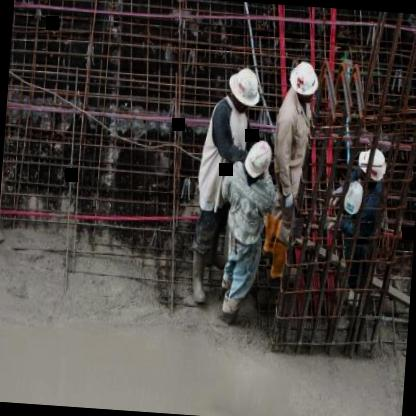helmet: (226, 64, 264, 116), (354, 143, 390, 189), (242, 138, 276, 184), (291, 58, 319, 102)
